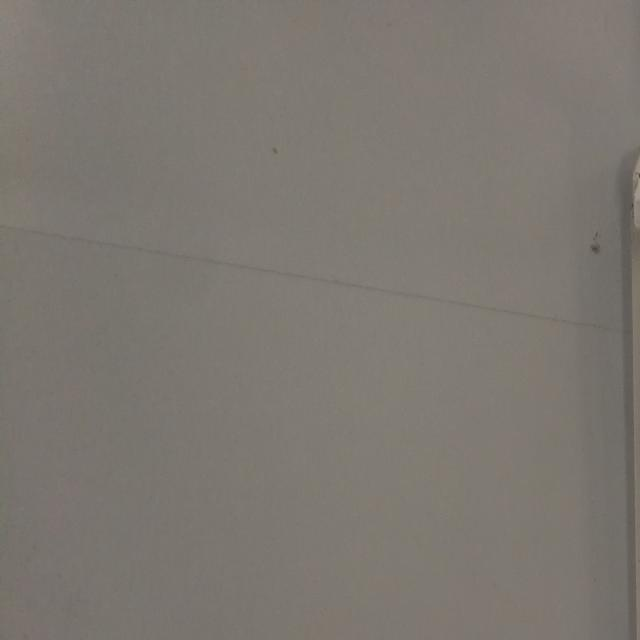fluorescent tube: (593, 105, 640, 639)
